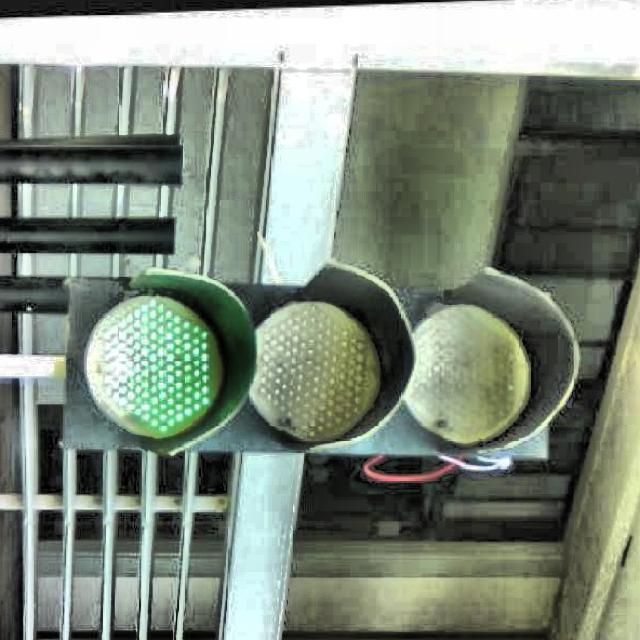green: (49, 264, 572, 464)
